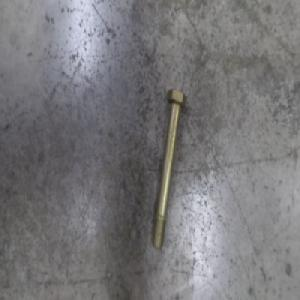Bolt: (150, 86, 187, 251)
